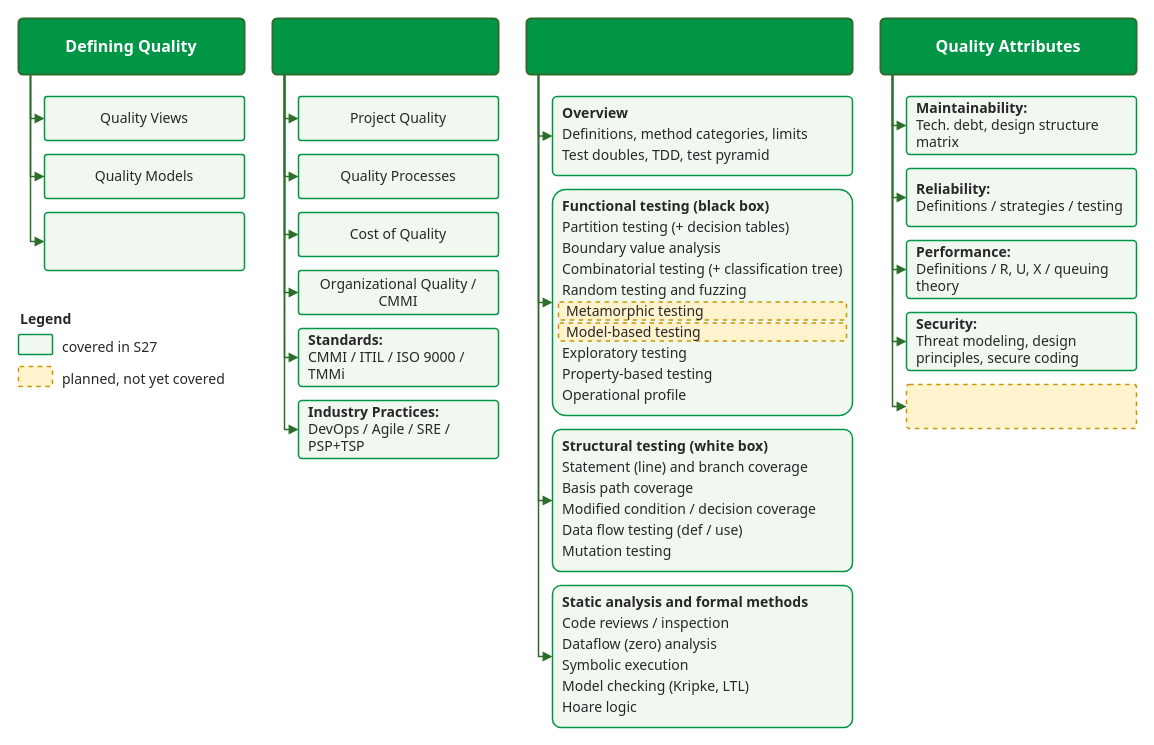
Image size: 1154x745. Some labels were removed from this diagram. The centre of each missing label's shape, as x and y in pixels:
"Metrics: measuring adequacy of quality methods" belongs at point (144, 241).
"Organizing Quality" belongs at point (385, 46).
"Usability" belongs at point (1021, 406).
"Verification and Validation" belongs at point (689, 46).
